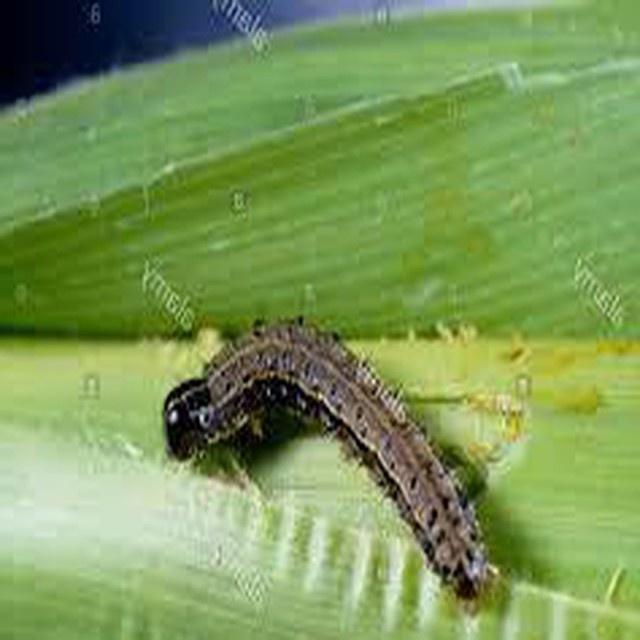gusano_cogollero: (162, 309, 492, 606)
